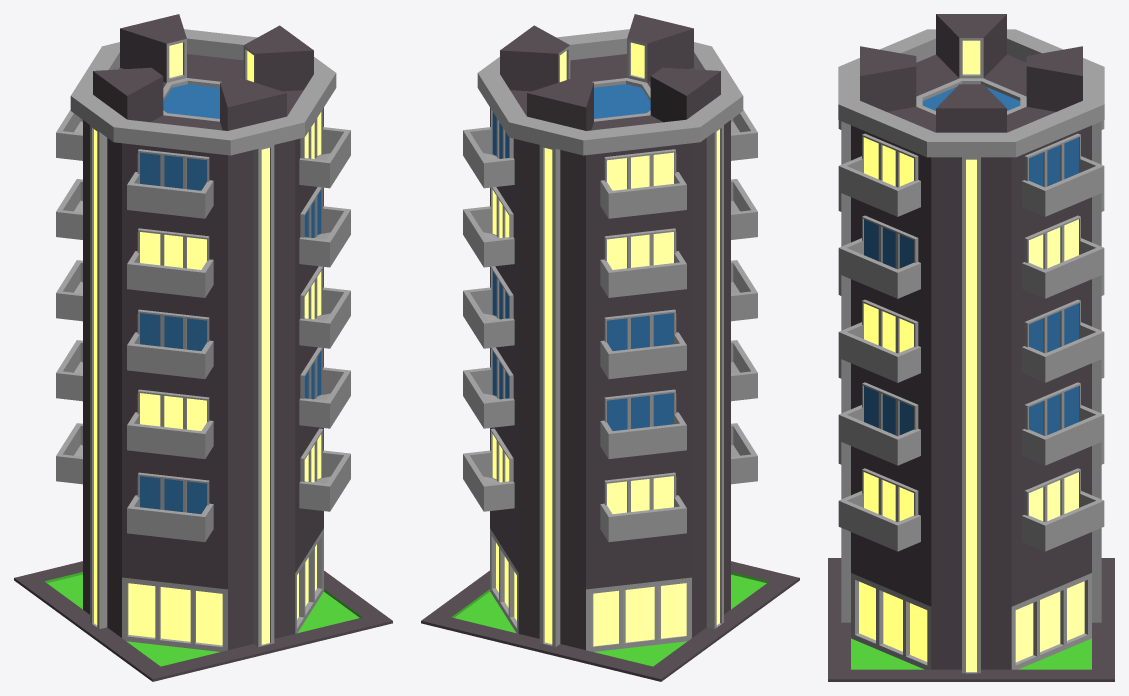
The model's file is building2.fbx.
The picture shows the model from 3 angles, left to right: view 1: azimuth 30°, elevation 25°; view 2: azimuth 150°, elevation 25°; view 3: azimuth 270°, elevation 25°; orthographic projection. The views are drawn at different scales.
Parts seen in each view (by area): view 1: Building2; view 2: Building2; view 3: Building2.
Boxes of the visible parts, bbox=[...] form: Building2: bbox=[14, 14, 392, 681]; Building2: bbox=[421, 14, 799, 681]; Building2: bbox=[828, 14, 1114, 681].
Size of the model in its own units: 100 by 216 by 100.
